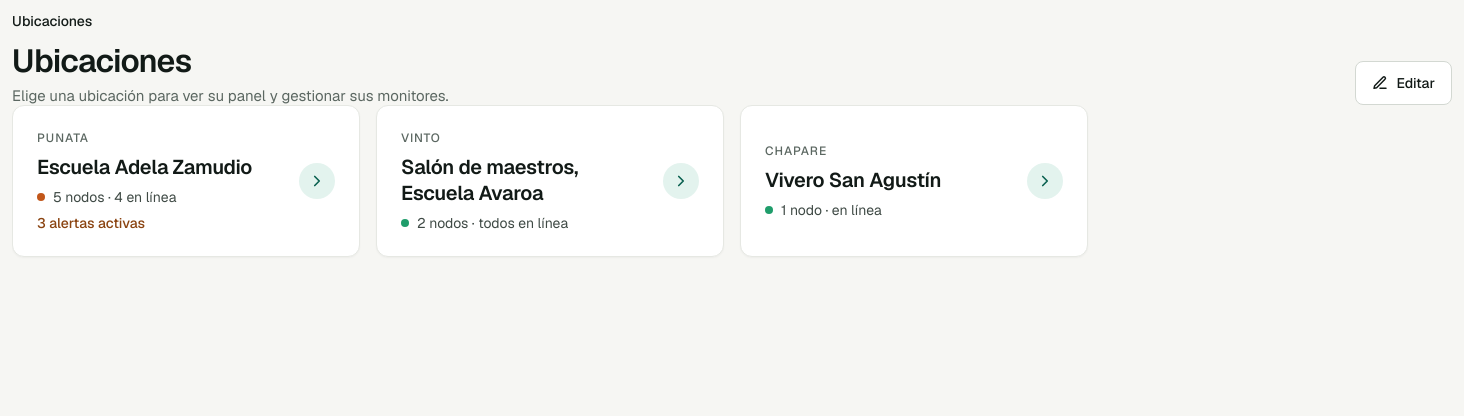
Ubicaciones › renombra una ubicación y vuelve a la vista normal
Expected: the link "Escuela Adela Zamudio" is shown, [12,105,360,257]
Click the button "Editar": (1404, 83) [1355,61,1452,105]
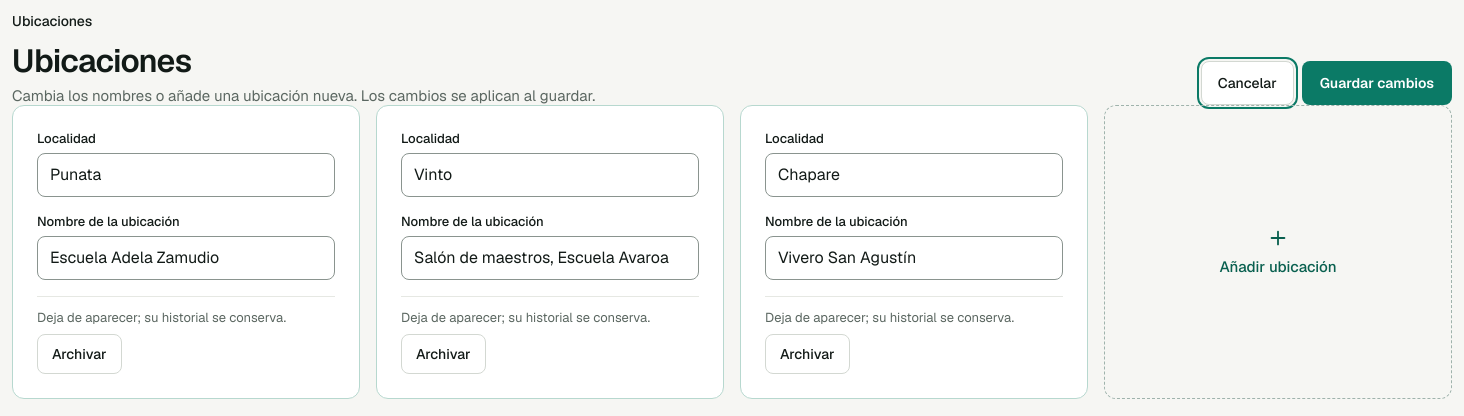
Replace the text in the 3rd field labelled "Nombre de la ubicación" with "Vivero Central": (914, 258) [765,236,1063,280]
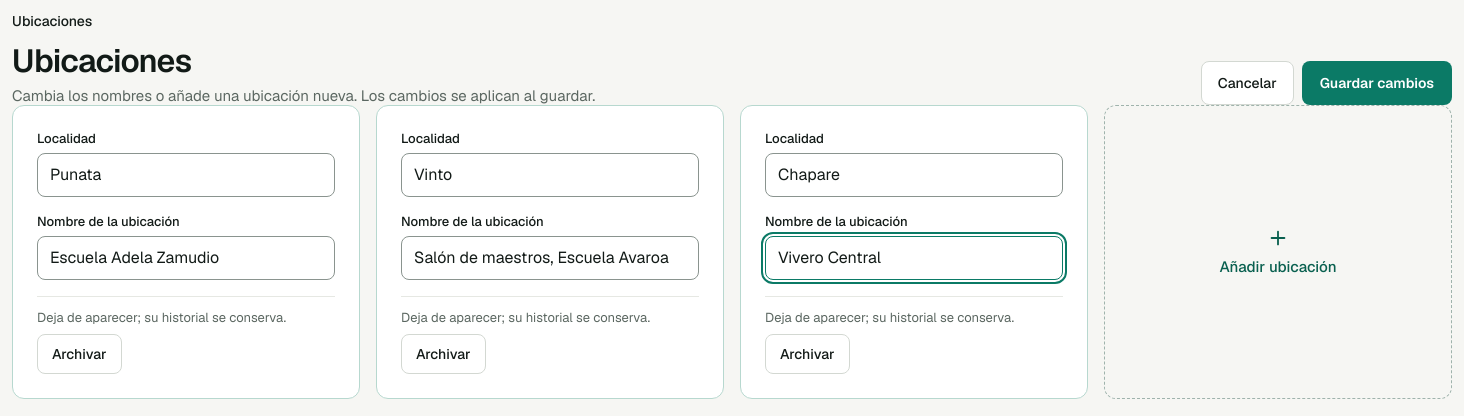
Click the button "Guardar cambios": (1377, 83) [1302,61,1452,105]
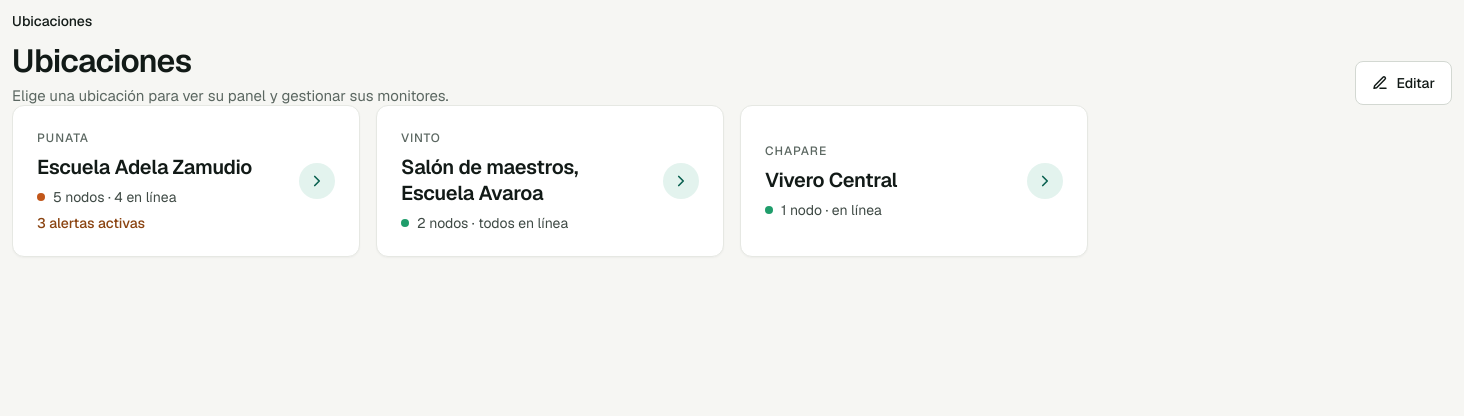
Expected: the link "Chapare Vivero Central 1 nodo · en línea" is shown, [740,105,1088,257]
